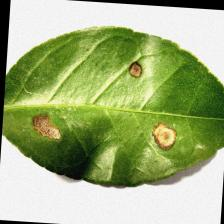canker: (20, 54, 183, 162)
